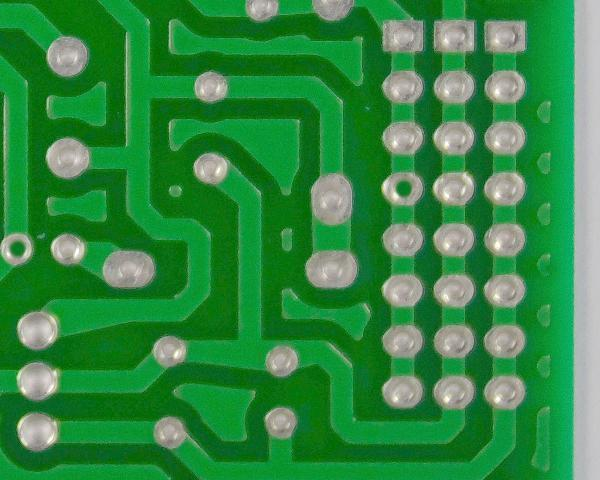missing hole: (376, 167, 430, 208), (1, 229, 37, 269)
